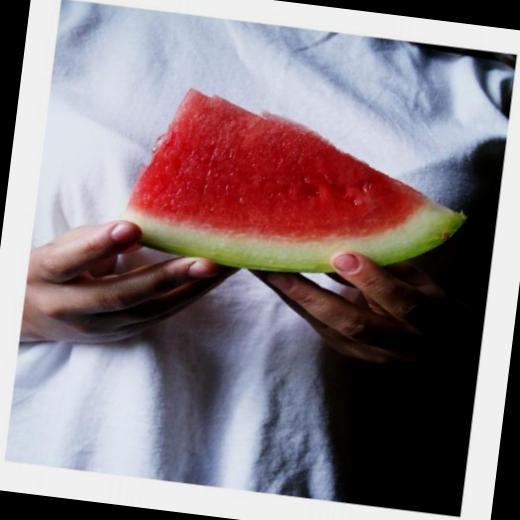Cherry: (117, 80, 483, 296)
